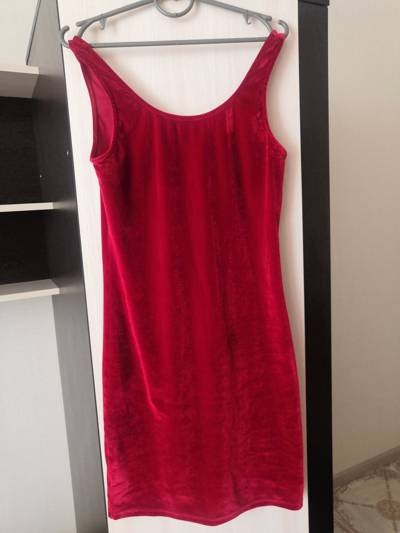Dress: (58, 12, 320, 525)
